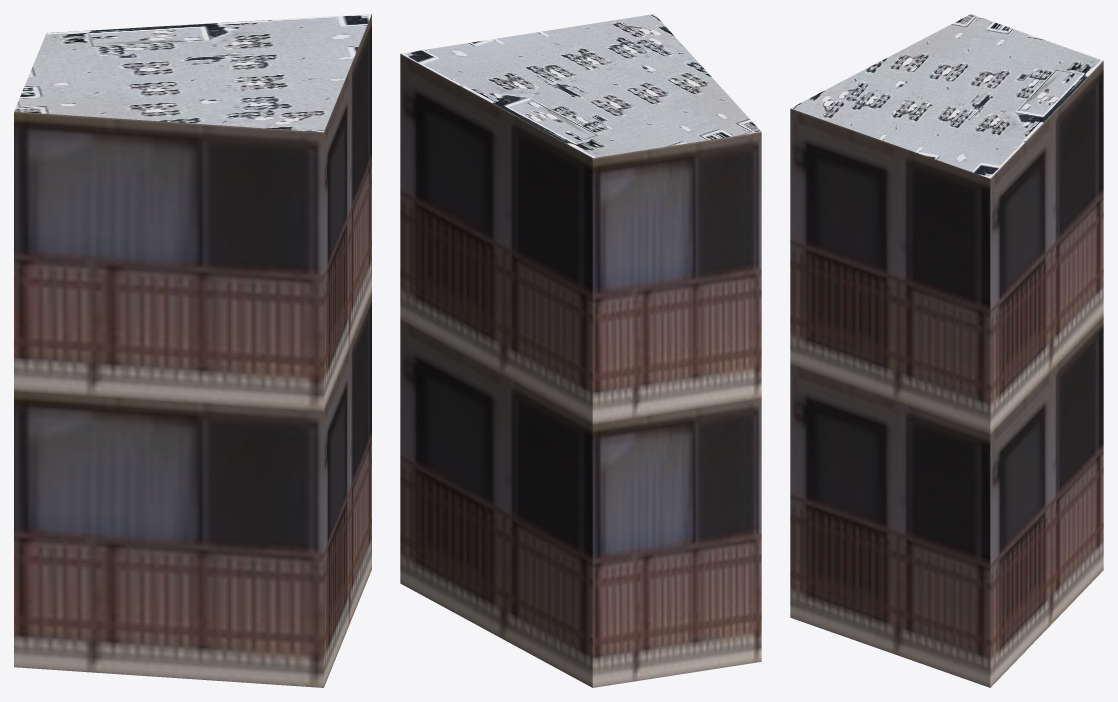
Rendered from ResTex__4211.fbx.
3 views of the same model, side by side, from view 1: azimuth 30°, elevation 25°; view 2: azimuth 150°, elevation 25°; view 3: azimuth 270°, elevation 25° (orthographic). The views are drawn at different scales.
Visible parts, largest first — view 1: CityEngineMaterial_6_m, CityEngineMaterial_8_m; view 2: CityEngineMaterial_6_m, CityEngineMaterial_8_m; view 3: CityEngineMaterial_6_m, CityEngineMaterial_8_m.
Boxes of the visible parts, bbox=[...] form: CityEngineMaterial_6_m: bbox=[14, 14, 371, 687]; CityEngineMaterial_8_m: bbox=[14, 14, 371, 132]; CityEngineMaterial_6_m: bbox=[400, 54, 761, 687]; CityEngineMaterial_8_m: bbox=[401, 14, 761, 157]; CityEngineMaterial_6_m: bbox=[790, 61, 1103, 687]; CityEngineMaterial_8_m: bbox=[790, 14, 1103, 178].
Size of the model in its own units: 4.16 by 6 by 3.35.
Materials: 2 (2 with a texture image).
